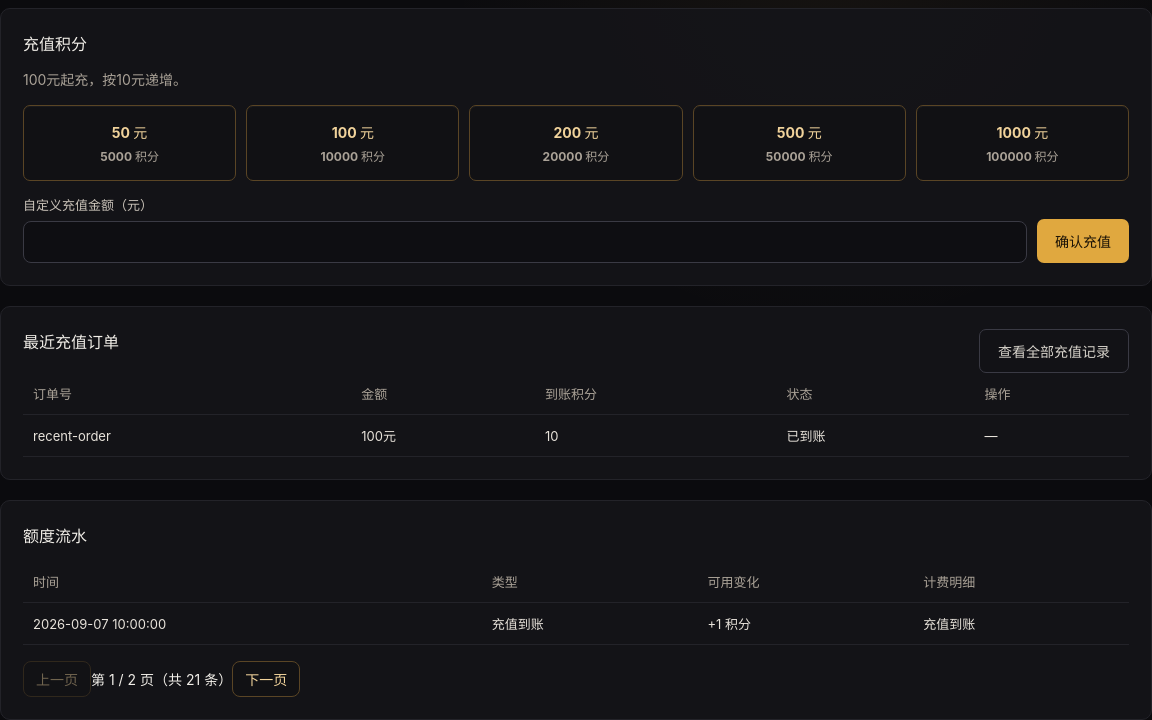
Test: CustomerWalletPanel › pages through the complete customer ledger and recharge order history
(page scrolled)
Expected: the element "额度流水" is shown, [0,500,1151,719]
Expected: the text "2026-09-07 10:00:00" is shown, [23,602,482,644]
Step 1. Click the button "下一页" → (266, 679), box [232,661,300,697]
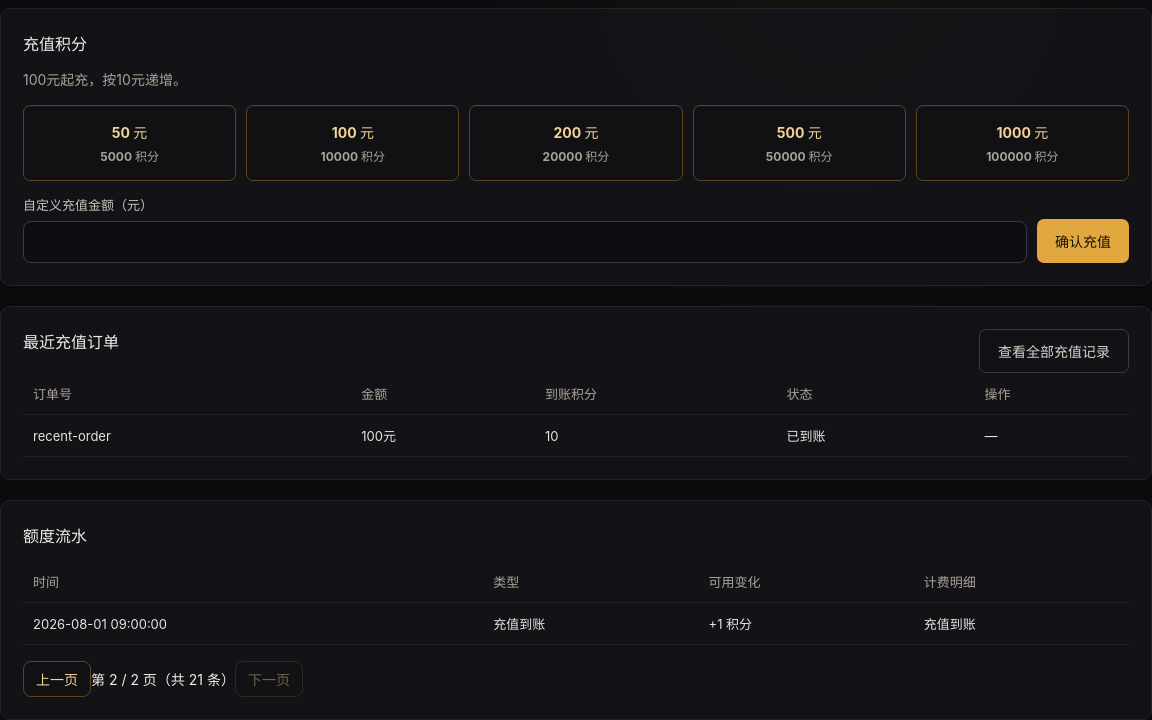
Result: the text "2026-08-01 09:00:00" is shown at [23,602,483,644]
Step 2. Click the button "查看全部充值记录" → (1054, 351), box [979,329,1129,373]
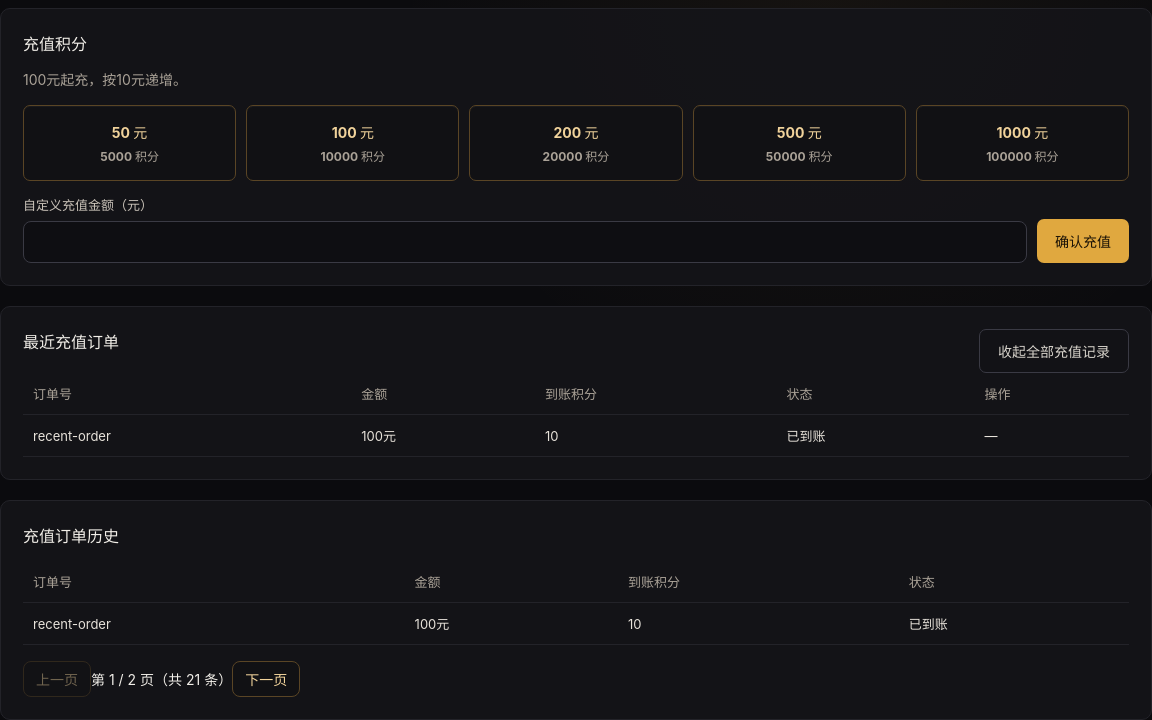
Result: the element "充值订单历史" is shown at [0,500,1151,719]
Result: the text "recent-order" below "充值订单历史" is shown at [33,616,111,632]
Step 3. Click the button "下一页" → (266, 679), box [232,661,300,697]
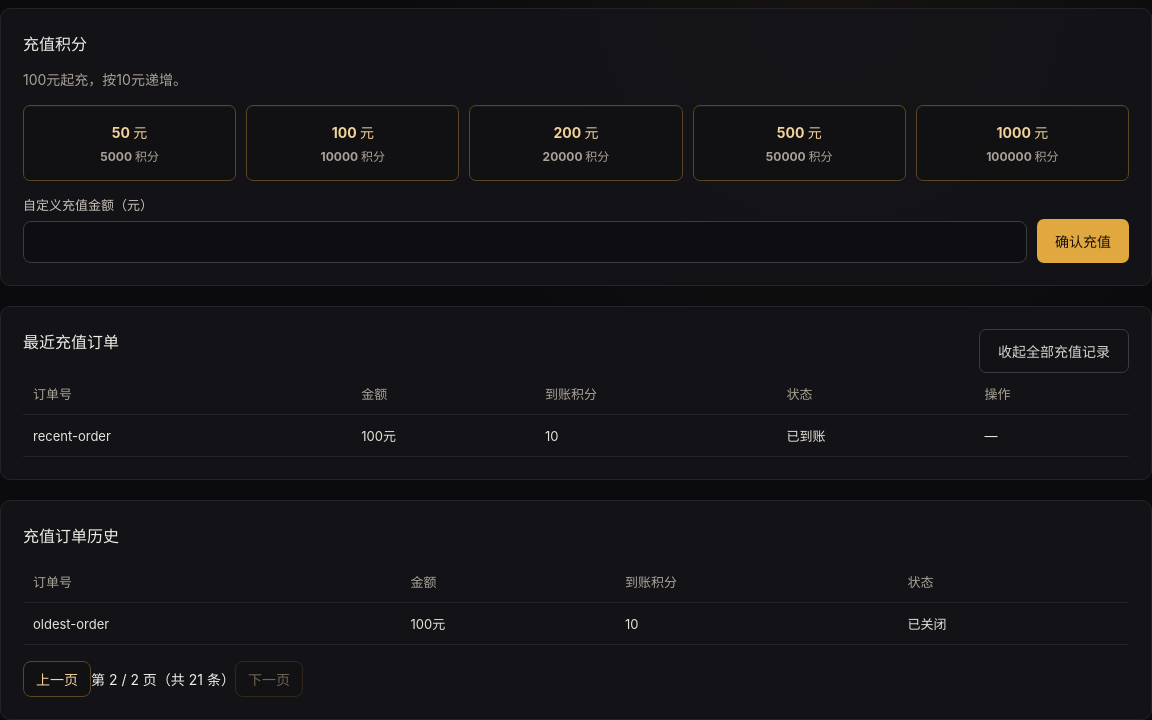
Result: the text "oldest-order" is shown at [23,602,400,644]
